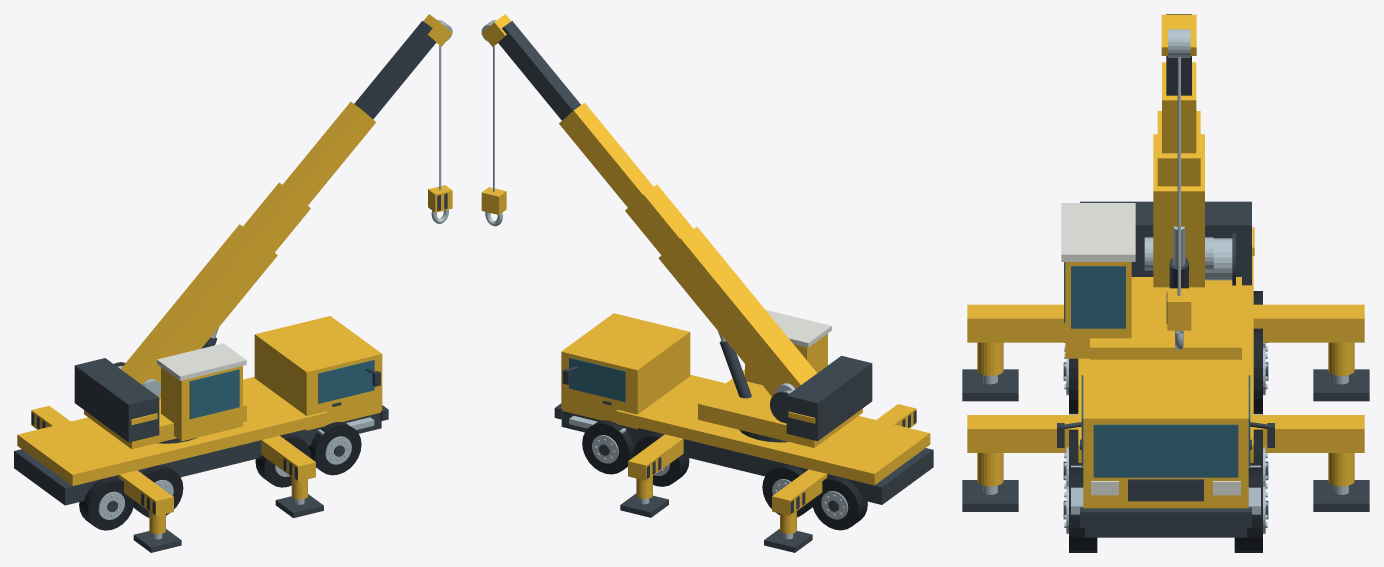
Rendered from truck-crane.glb.
3 renders of one model, left to right at view 1: azimuth 30°, elevation 25°; view 2: azimuth 150°, elevation 25°; view 3: azimuth 270°, elevation 25°, orthographic. The views are drawn at different scales.
Visible parts, largest first — view 1: CarrierDeck, DriverCab, Boom_Main, Counterweight, Chassis, Boom_Stage_2, OperatorCab, Boom_Stage_3, Boom_Stage_1, OperatorRoof, OperatorSideGlass, DriverSideWindow (+10 smaller); view 2: CarrierDeck, Boom_Main, DriverCab, Counterweight, Chassis, Boom_Stage_2, UpperPlatform, Boom_Stage_3, Boom_Stage_1, DriverSideWindow.001, Tire.001, Tire.007 (+11 smaller); view 3: DriverCab, UpperPlatform, Windshield, Boom_Main, OperatorRoof, OutriggerBeam.001, OutriggerBeam, Counterweight, OutriggerBeam.002, OutriggerBeam.003, OperatorFrontGlass, FrontBumper (+25 smaller).
Part boxes in pixels (x1=…): CarrierDeck: x1=17, y1=377, x2=327, y2=485; DriverCab: x1=254, y1=316, x2=382, y2=430; Boom_Main: x1=121, y1=224, x2=277, y2=399; Counterweight: x1=74, y1=358, x2=159, y2=442; Chassis: x1=14, y1=412, x2=381, y2=505; Boom_Stage_2: x1=282, y1=102, x2=375, y2=205; OperatorCab: x1=161, y1=366, x2=242, y2=441; Boom_Stage_3: x1=354, y1=21, x2=436, y2=119; Boom_Stage_1: x1=243, y1=182, x2=310, y2=252; OperatorRoof: x1=157, y1=343, x2=246, y2=380; OperatorSideGlass: x1=189, y1=369, x2=239, y2=419; DriverSideWindow: x1=318, y1=360, x2=374, y2=403; CarrierDeck: x1=616, y1=375, x2=930, y2=485; Boom_Main: x1=658, y1=227, x2=816, y2=396; DriverCab: x1=561, y1=313, x2=690, y2=429; Counterweight: x1=786, y1=355, x2=872, y2=441; Chassis: x1=561, y1=411, x2=933, y2=504; Boom_Stage_2: x1=559, y1=102, x2=653, y2=207; UpperPlatform: x1=698, y1=369, x2=862, y2=447; Boom_Stage_3: x1=498, y1=21, x2=580, y2=120; Boom_Stage_1: x1=625, y1=184, x2=693, y2=254; DriverSideWindow.001: x1=569, y1=357, x2=625, y2=401; Tire.001: x1=811, y1=476, x2=867, y2=530; Tire.007: x1=582, y1=420, x2=635, y2=474; DriverCab: x1=1083, y1=359, x2=1248, y2=508; UpperPlatform: x1=1090, y1=277, x2=1241, y2=359; Windshield: x1=1093, y1=424, x2=1238, y2=477; Boom_Main: x1=1153, y1=134, x2=1204, y2=287; OperatorRoof: x1=1061, y1=203, x2=1135, y2=261; OutriggerBeam.001: x1=1253, y1=304, x2=1364, y2=342; OutriggerBeam: x1=967, y1=304, x2=1065, y2=342; Counterweight: x1=1080, y1=201, x2=1251, y2=285; OutriggerBeam.002: x1=967, y1=415, x2=1078, y2=452; OutriggerBeam.003: x1=1253, y1=415, x2=1364, y2=452; OperatorFrontGlass: x1=1071, y1=266, x2=1125, y2=328; FrontBumper: x1=1080, y1=507, x2=1251, y2=527.
Size of the model in its own units: 11.49 by 10.6 by 6.15.
